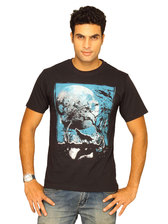clothoes: (22, 57, 149, 195)
